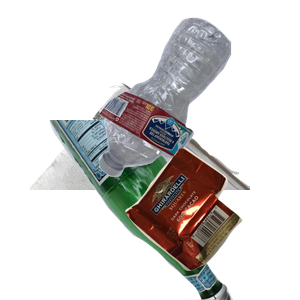glass: (37, 120, 262, 300)
paper: (10, 10, 250, 190)
plastic: (96, 15, 300, 184)
trash: (123, 145, 300, 300)
